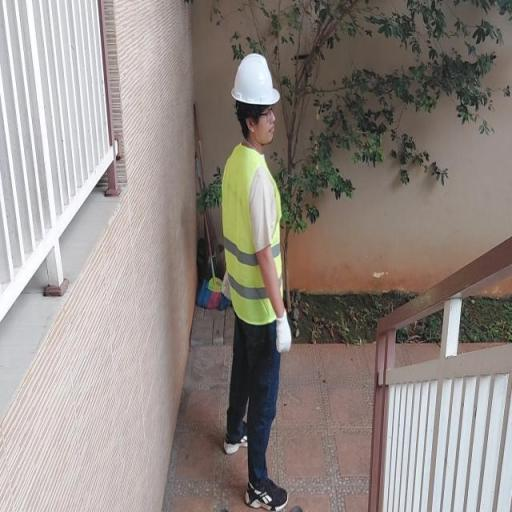Person: (200, 30, 324, 496)
gloves: (273, 300, 308, 362), (218, 264, 237, 306)
helmet: (222, 44, 291, 116)
vest: (213, 141, 297, 340)
